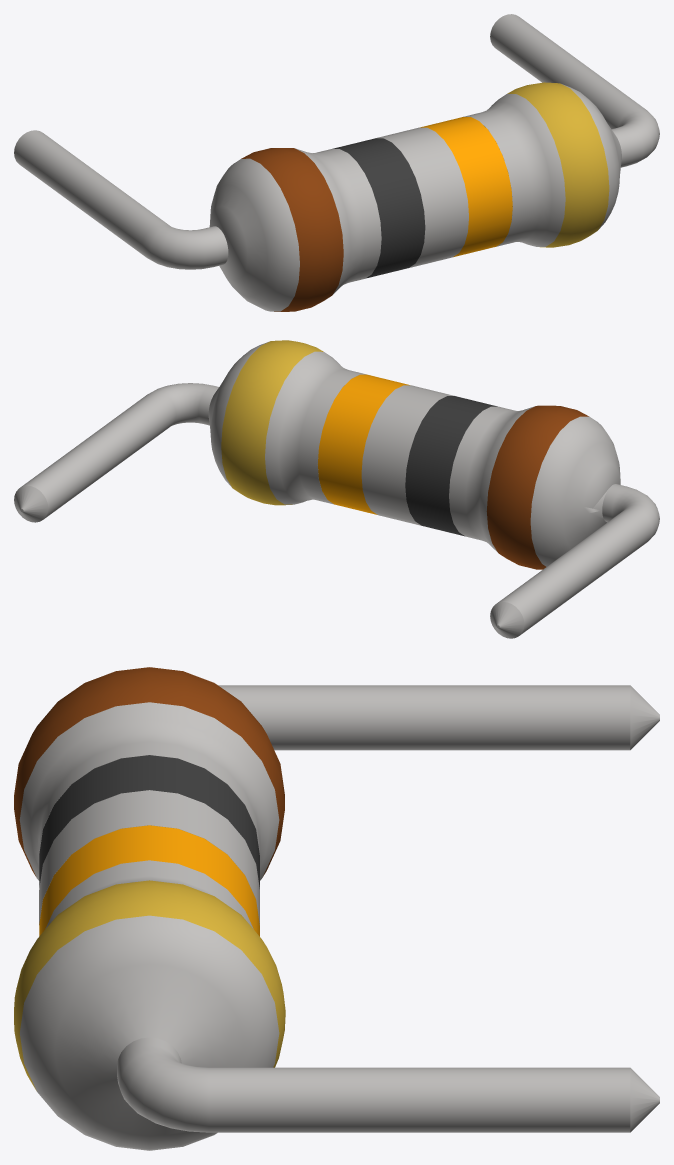
3 views of the same model, one above another, from view 1: azimuth 30°, elevation 25°; view 2: azimuth 150°, elevation 25°; view 3: azimuth 270°, elevation 25° (orthographic). The views are drawn at different scales.
Parts seen in each view (by area): view 1: Body1_Body1.009; view 2: Body1_Body1.009; view 3: Body1_Body1.009.
Part boxes in pixels (<box>): Body1_Body1.009: <box>14,14,659,311</box>; Body1_Body1.009: <box>14,340,659,638</box>; Body1_Body1.009: <box>14,667,659,1150</box>.
Size of the model in its own units: 0.0817 by 0.0229 by 0.0544.
